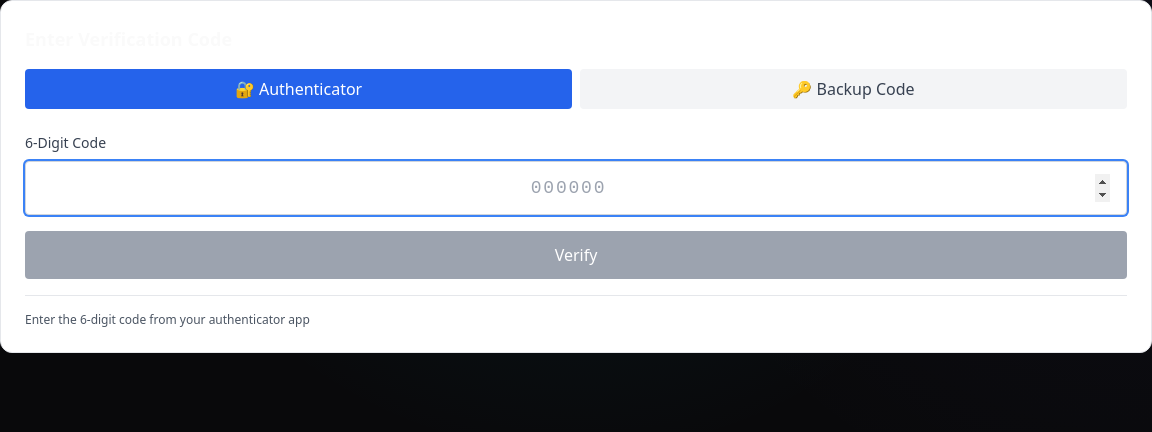
it: VerifyCodeInput Component › TOTP Input Validation › should reject TOTP code with less than 6 digits
The width and height of the screenshot is (1152, 432).
Type "12345" into the number field with placeholder "000000" at (576, 188), box left=25, top=161, right=1127, bottom=215
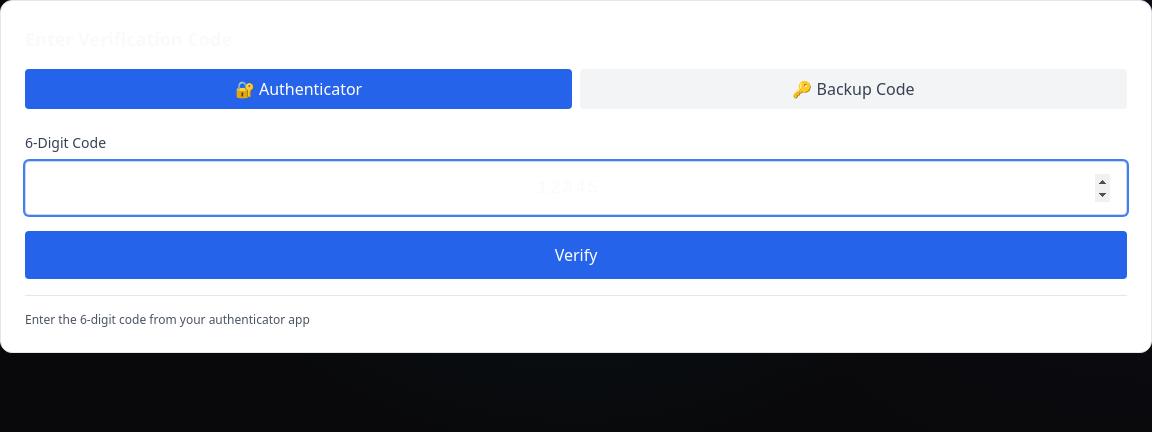
Click the button "Verify" at (576, 255), box left=25, top=231, right=1127, bottom=279
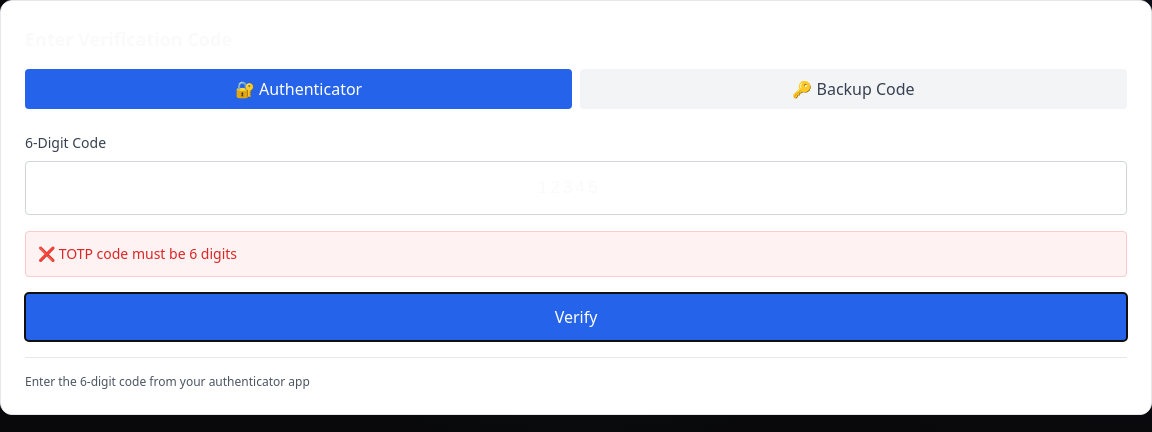
Result: the text "❌ TOTP code must be 6 digits" is shown at left=38, top=244, right=237, bottom=263
